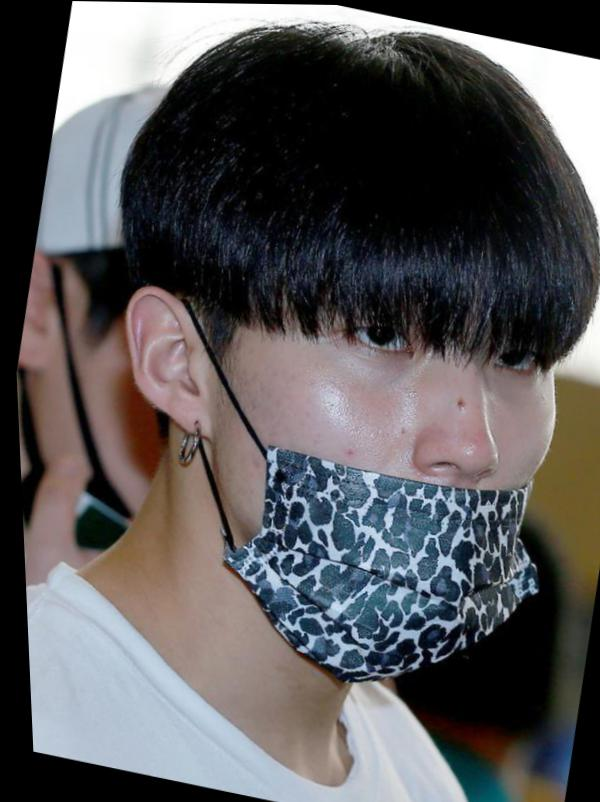WRONG: (189, 268, 575, 664)
